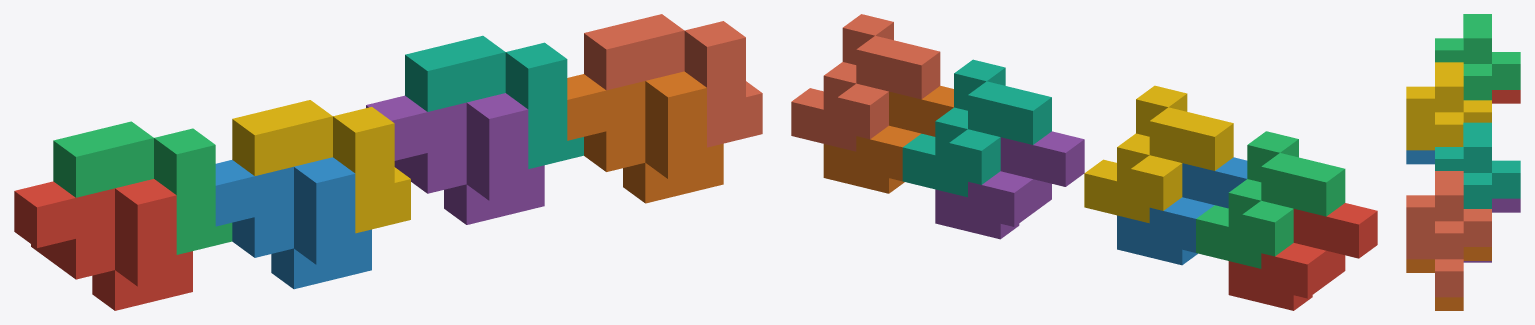
Rendered from tiling.obj.
The picture shows the model from 3 angles, left to right: view 1: azimuth 30°, elevation 25°; view 2: azimuth 150°, elevation 25°; view 3: azimuth 270°, elevation 25°; orthographic projection. The views are drawn at different scales.
Visible parts, largest first — view 1: copy_1_domain_1, copy_1_domain_5, copy_1_domain_2, copy_1_domain_6, copy_1_domain_4, copy_1_domain_8, copy_1_domain_3, copy_1_domain_7; view 2: copy_1_domain_3, copy_1_domain_8, copy_1_domain_4, copy_1_domain_7, copy_1_domain_1, copy_1_domain_5, copy_1_domain_6, copy_1_domain_2; view 3: copy_1_domain_8, copy_1_domain_4, copy_1_domain_7, copy_1_domain_3, copy_1_domain_6, copy_1_domain_5, copy_1_domain_2, copy_1_domain_1.
Boxes of the visible parts, x1=… form: copy_1_domain_1: x1=14, y1=179, x2=192, y2=310; copy_1_domain_5: x1=366, y1=93, x2=544, y2=224; copy_1_domain_2: x1=215, y1=157, x2=371, y2=289; copy_1_domain_6: x1=567, y1=71, x2=723, y2=203; copy_1_domain_4: x1=232, y1=100, x2=410, y2=233; copy_1_domain_8: x1=584, y1=14, x2=762, y2=147; copy_1_domain_3: x1=53, y1=121, x2=232, y2=254; copy_1_domain_7: x1=405, y1=35, x2=583, y2=168; copy_1_domain_3: x1=1196, y1=131, x2=1345, y2=268; copy_1_domain_8: x1=791, y1=14, x2=940, y2=151; copy_1_domain_4: x1=1084, y1=85, x2=1233, y2=223; copy_1_domain_7: x1=902, y1=59, x2=1051, y2=197; copy_1_domain_1: x1=1228, y1=203, x2=1377, y2=310; copy_1_domain_5: x1=935, y1=131, x2=1084, y2=239; copy_1_domain_6: x1=823, y1=86, x2=953, y2=193; copy_1_domain_2: x1=1117, y1=157, x2=1247, y2=265; copy_1_domain_8: x1=1406, y1=171, x2=1491, y2=297; copy_1_domain_4: x1=1406, y1=62, x2=1491, y2=150; copy_1_domain_7: x1=1435, y1=122, x2=1520, y2=208; copy_1_domain_3: x1=1435, y1=14, x2=1520, y2=100; copy_1_domain_6: x1=1406, y1=247, x2=1491, y2=310; copy_1_domain_5: x1=1463, y1=198, x2=1520, y2=262; copy_1_domain_2: x1=1406, y1=150, x2=1434, y2=164; copy_1_domain_1: x1=1492, y1=90, x2=1520, y2=103.
Size of the model in its own units: 18 by 4 by 4.
